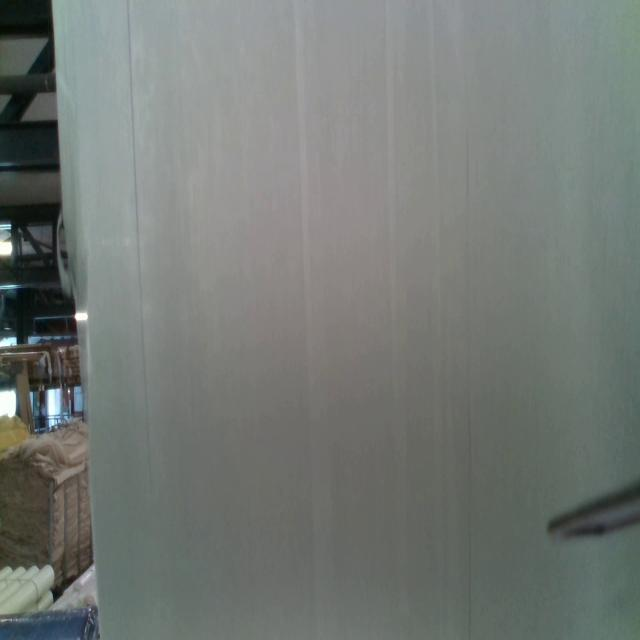crease: (125, 0, 153, 488), (462, 133, 474, 634)
